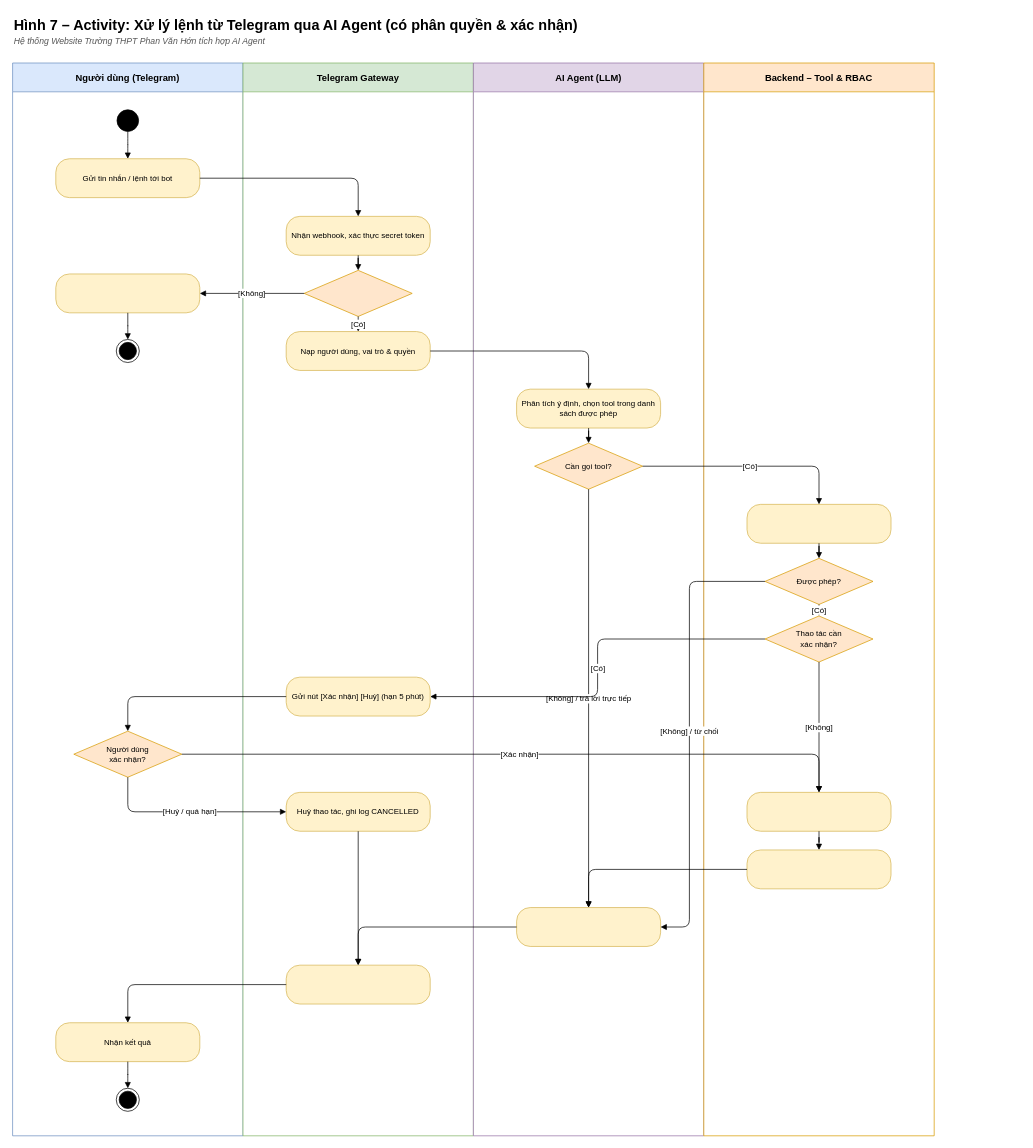
The diagram is 1033 pixels wide and 1148 high, and some of its shapes have lost their labels. Here are the shapes that lost their labels. From the top down, the centre of each, then its label:
(127,293): Nhận hướng dẫn liên kết tài khoản
(357,293): chat_id đã liên kết?
(818,523): Kiểm tra quyền RBAC phía server
(818,811): Thực thi tool (gọi Post / Task / Monitor service)
(818,869): Ghi Audit Log (kênh TELEGRAM)
(588,926): Tổng hợp kết quả, soạn câu trả lời tiếng Việt
(357,984): Gửi phản hồi về Telegram
